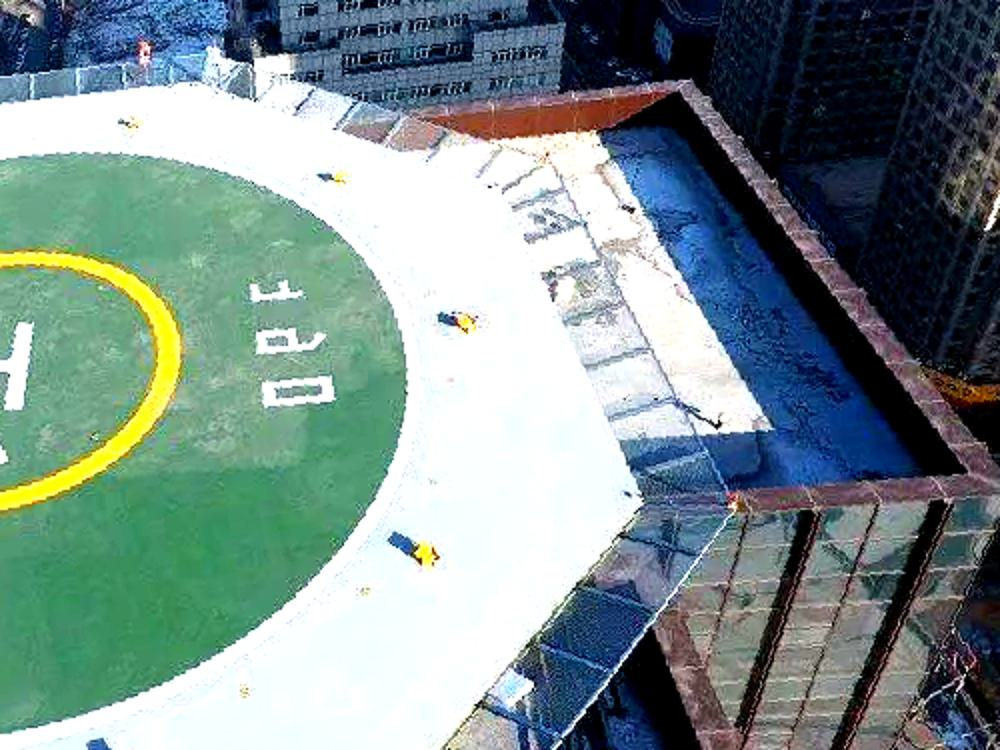Apron: (1, 247, 185, 514)
